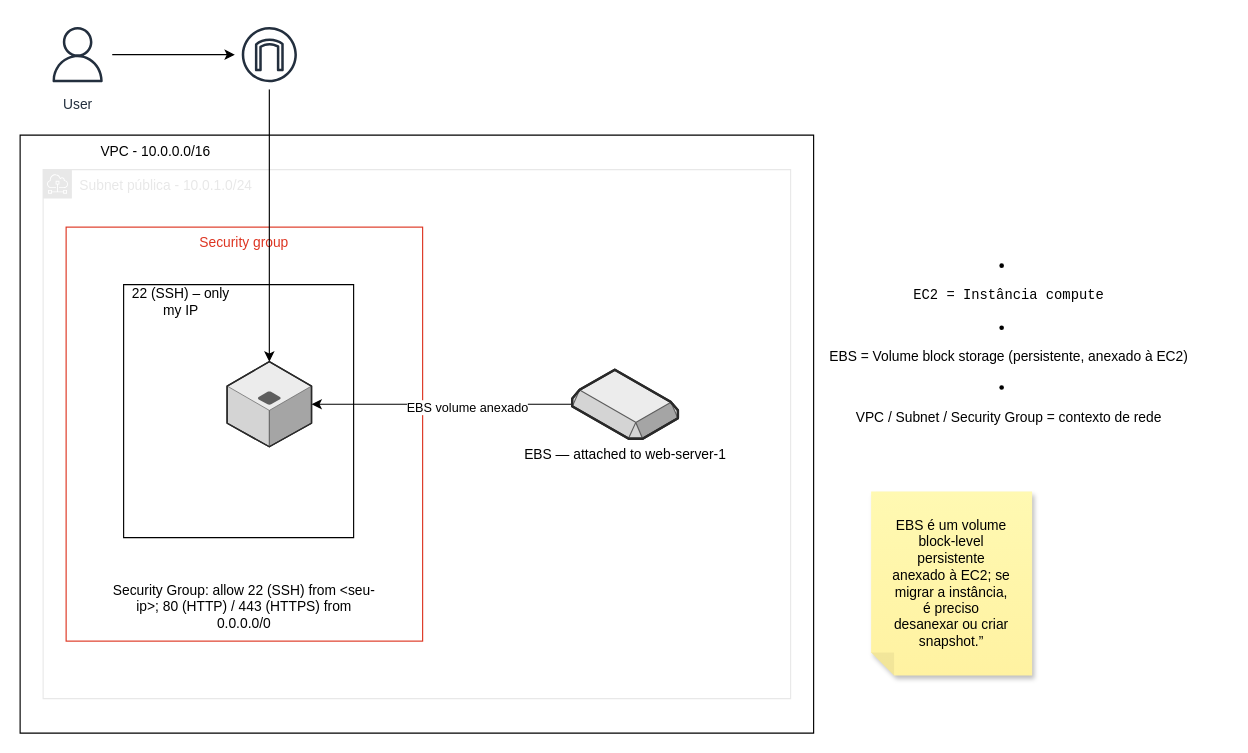
The diagram is 1248 pixels wide and 753 high, and some of its shapes have lost their labels. The shapes that lost their labels are listed below. From the top down, each one's centre as x and y in pixels, then its label:
At point (269, 54): "Internet gateway".
At point (269, 404): "EC2 - web-server-1".
